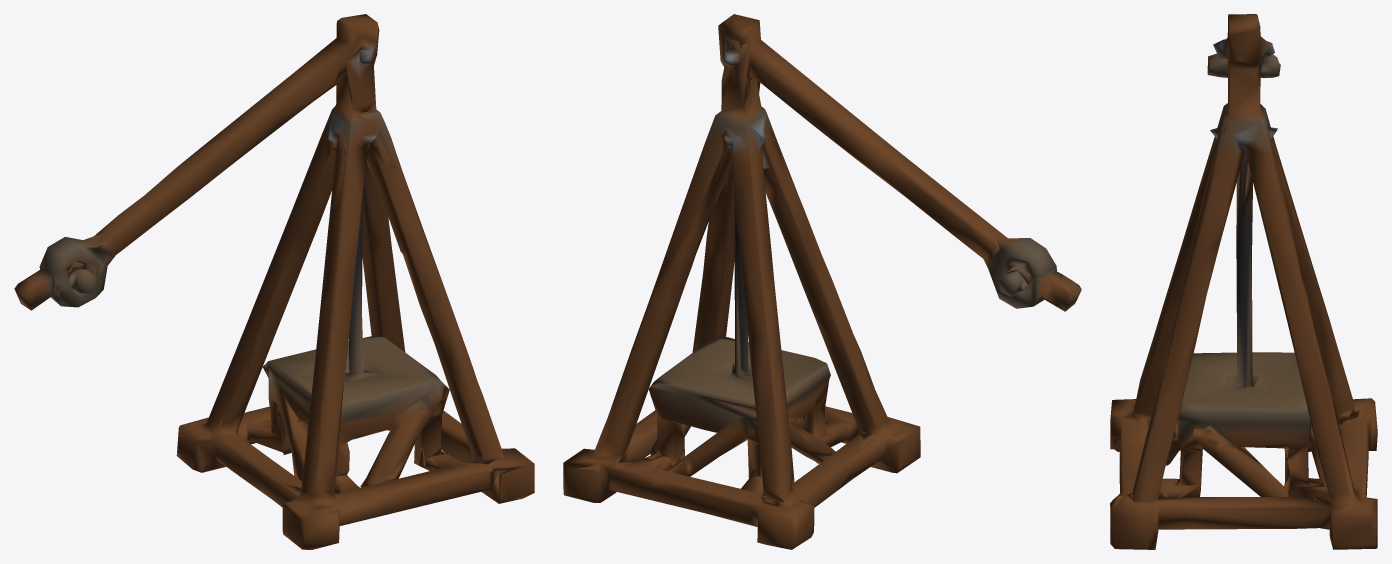
Rendered from gen3d-trebuchet-lod0.glb.
3 renders of one model, left to right at view 1: azimuth 30°, elevation 25°; view 2: azimuth 150°, elevation 25°; view 3: azimuth 270°, elevation 25°, orthographic. The views are drawn at different scales.
Parts seen in each view (by area): view 1: part_0; view 2: part_0; view 3: part_0.
Part boxes in pixels (x1,y1,x2,y2): part_0: [14, 14, 534, 549]; part_0: [563, 14, 1081, 549]; part_0: [1110, 14, 1377, 549].
Size of the model in its own units: 1.04 by 1 by 0.5123.
